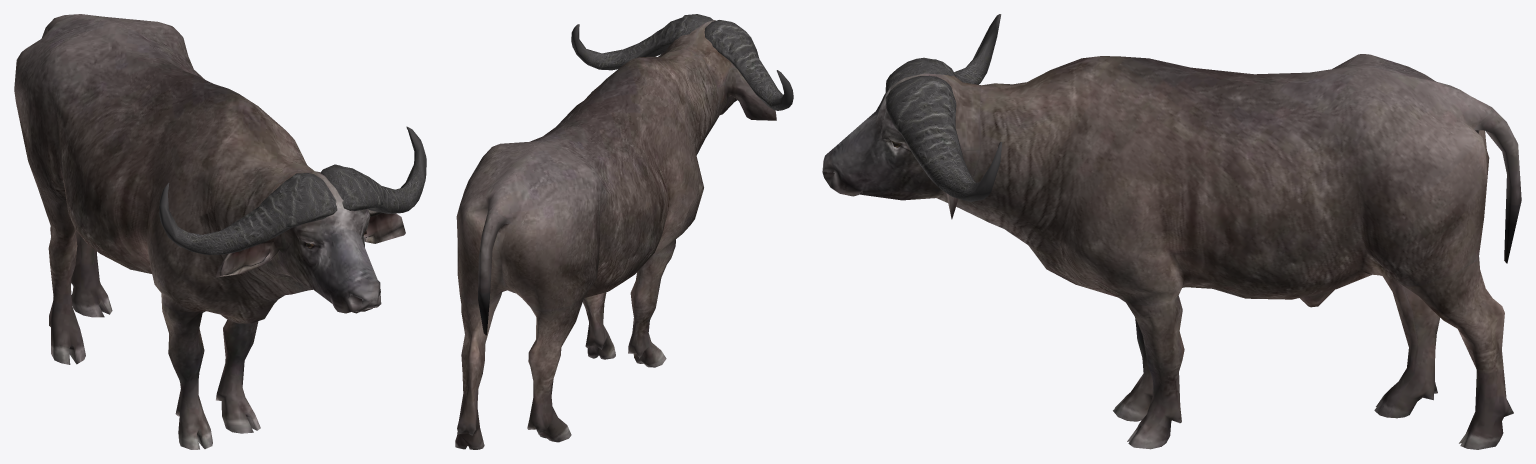
File: buffalo.glb
3 views of the same model, side by side, from view 1: azimuth 30°, elevation 25°; view 2: azimuth 150°, elevation 25°; view 3: azimuth 270°, elevation 25° (orthographic). The views are drawn at different scales.
Visible parts, largest first — view 1: Buffalo_Antler_applied_clean_M_Buffalo_0_M_Buffalo_0, Buffalo_Antler_applied_clean_M_Buffalo_Antler_0_M_Buffalo_An; view 2: Buffalo_Antler_applied_clean_M_Buffalo_0_M_Buffalo_0, Buffalo_Antler_applied_clean_M_Buffalo_Antler_0_M_Buffalo_An; view 3: Buffalo_Antler_applied_clean_M_Buffalo_0_M_Buffalo_0, Buffalo_Antler_applied_clean_M_Buffalo_Antler_0_M_Buffalo_An.
Boxes of the visible parts, <box> form: Buffalo_Antler_applied_clean_M_Buffalo_0_M_Buffalo_0: <box>14,14,405,449</box>; Buffalo_Antler_applied_clean_M_Buffalo_Antler_0_M_Buffalo_An: <box>159,126,426,254</box>; Buffalo_Antler_applied_clean_M_Buffalo_0_M_Buffalo_0: <box>455,20,776,449</box>; Buffalo_Antler_applied_clean_M_Buffalo_Antler_0_M_Buffalo_An: <box>571,14,793,110</box>; Buffalo_Antler_applied_clean_M_Buffalo_0_M_Buffalo_0: <box>822,54,1521,449</box>; Buffalo_Antler_applied_clean_M_Buffalo_Antler_0_M_Buffalo_An: <box>885,14,1002,201</box>.
Bounding box in the file's own units: 1.54 × 1.94 × 3.29.
Materials: 2 (2 with a texture image).
